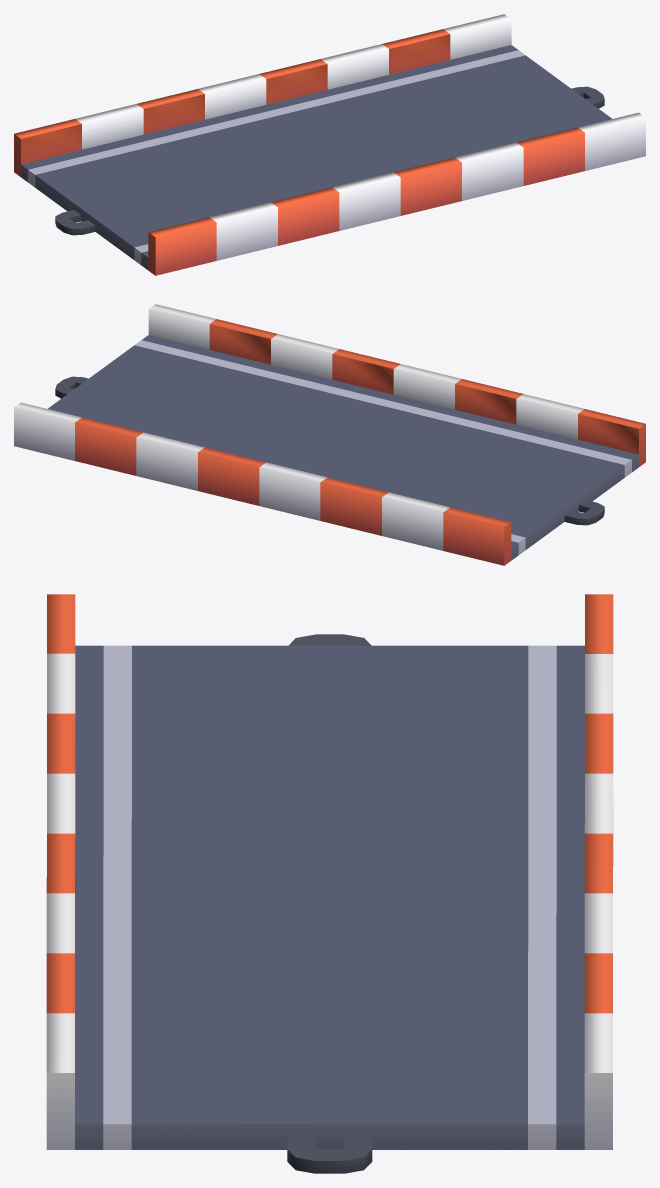
File: track-road-wide-straight.031_lev1.glb
3 renders of one model, top to bottom at view 1: azimuth 30°, elevation 25°; view 2: azimuth 150°, elevation 25°; view 3: azimuth 270°, elevation 25°, orthographic. The views are drawn at different scales.
Visible parts, largest first — view 1: track-road-wide-straight.031_lev1; view 2: track-road-wide-straight.031_lev1; view 3: track-road-wide-straight.031_lev1.
Part boxes in pixels (x1=…): track-road-wide-straight.031_lev1: x1=14, y1=14, x2=645, y2=275; track-road-wide-straight.031_lev1: x1=14, y1=304, x2=645, y2=565; track-road-wide-straight.031_lev1: x1=46, y1=594, x2=613, y2=1173.
Bounding box in the file's own units: 4.4 × 0.3 × 2.
Materials: 1 (1 with a texture image).
